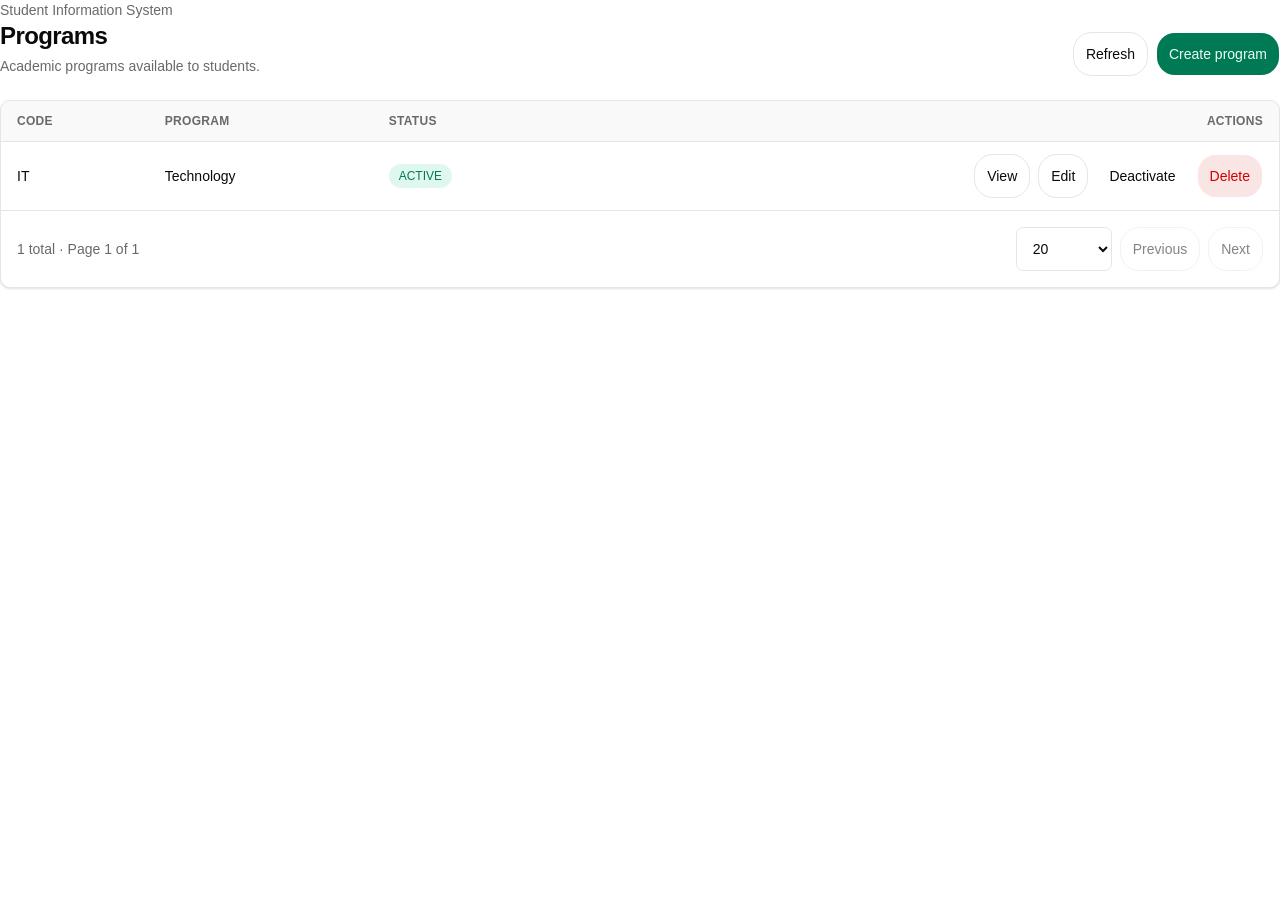
editor and mutation recovery › fetches current detail and recovers from a deleted/unavailable record
Click the button with aria-label "Edit program" at (1063, 176), box [1038,154,1088,198]
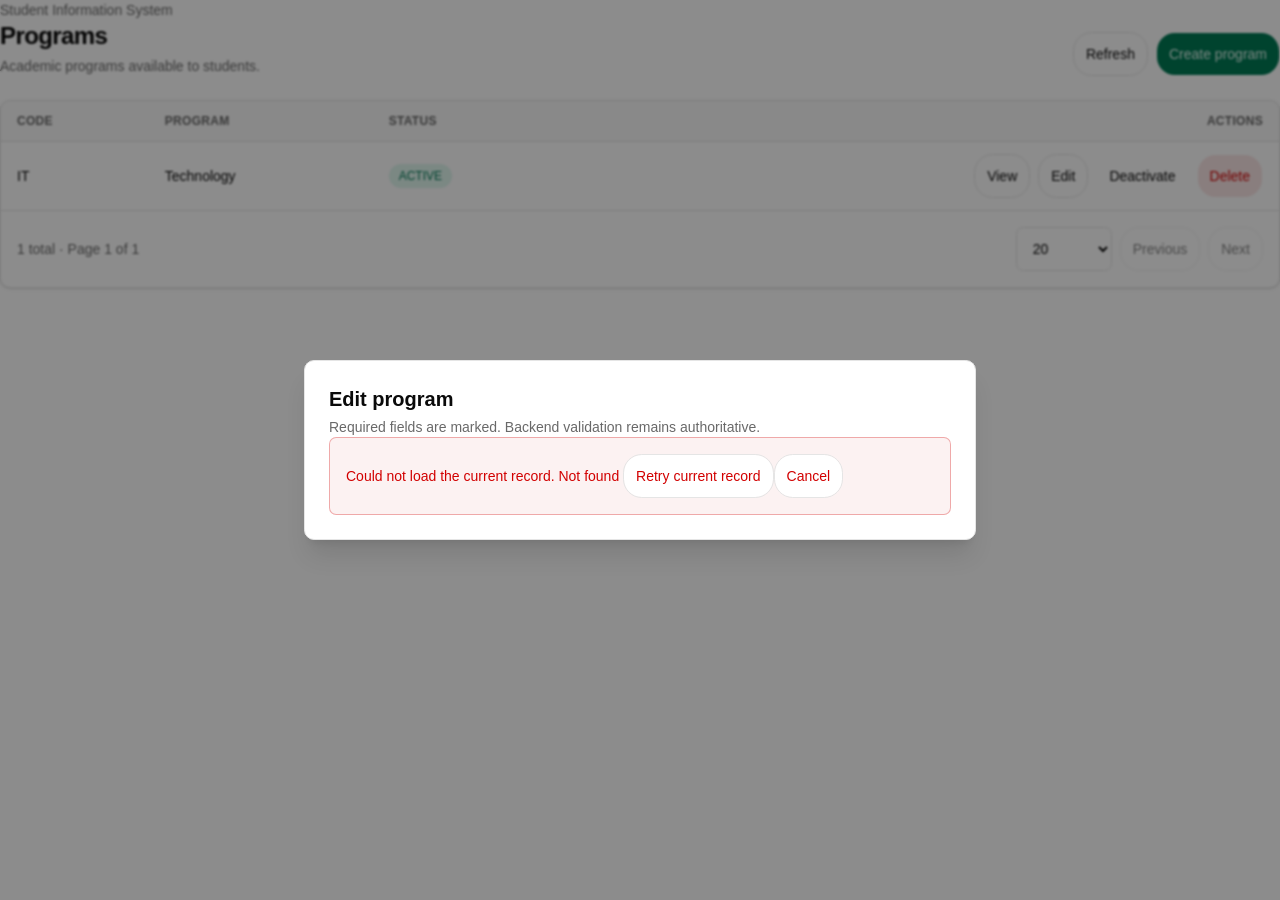
Expected: the button "Save changes" is not shown
Expected: the text "Could not load the current record. Not found Retry current record Cancel" is shown, [329,437,951,515]
Click the button "Retry current record" at (698, 476), box [623,454,774,498]
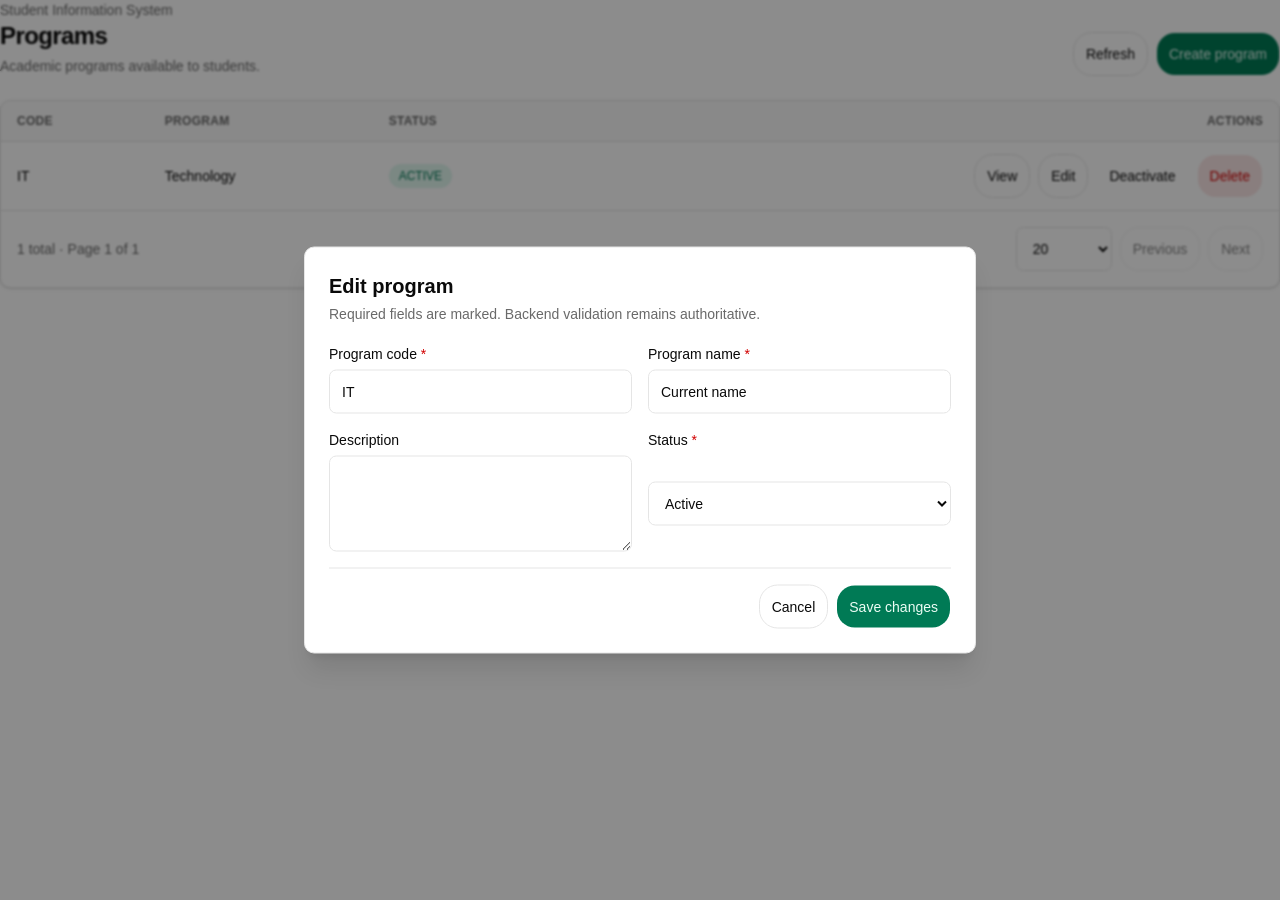
Expected: the field labelled "Program name *" holds "Current name", [648,370,951,414]
